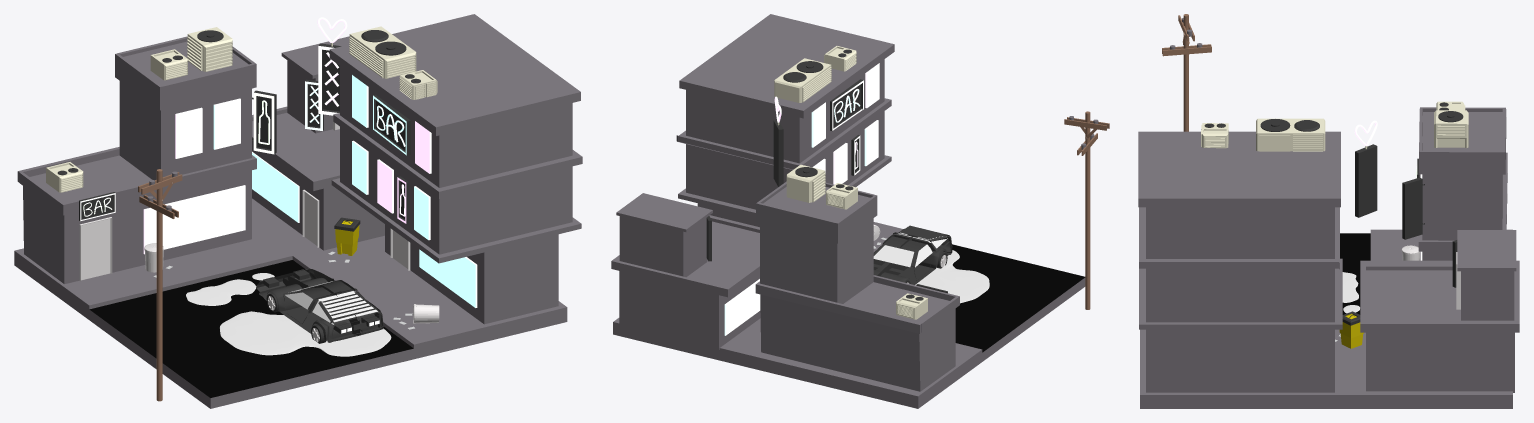
Rendered from cyberpunk_city.glb.
The picture shows the model from 3 angles, left to right: view 1: azimuth 30°, elevation 25°; view 2: azimuth 150°, elevation 25°; view 3: azimuth 270°, elevation 25°; orthographic projection. The views are drawn at different scales.
Visible parts, largest first — view 1: Cube.006_111, Cube.005_51, Pavement_144, Road_145, Cube.014_82, Water Puddle_148, Cube.002_48, Plane.012_8, Cube.017_85, Cube.001_47, Cube.045_125, Cube.016_84 (+24 smaller); view 2: Cube.005_51, Cube.006_111, Cube.014_82, Pavement_144, Road_145, Cube.017_85, Plane.012_8, Water Puddle_148, Cube.045_125, Cube.016_84, Cylinder.006_34, Cube.024_53 (+10 smaller); view 3: Cube.006_111, Cube.014_82, Cube.005_51, Pavement_144, Cube.017_85, Cube.045_125, Cube.033_122, Road_145, Cube.020_64, Cube.024_53, Cube.046_126, Cylinder.006_34 (+1 smaller).
Boxes of the visible parts, x1,y1,x2,y2 form: Cube.006_111: [329, 14, 582, 324]; Cube.005_51: [17, 36, 256, 284]; Pavement_144: [14, 198, 567, 408]; Road_145: [89, 260, 413, 397]; Cube.014_82: [252, 106, 384, 250]; Water Puddle_148: [220, 311, 391, 356]; Cube.002_48: [143, 185, 245, 254]; Plane.012_8: [256, 268, 383, 342]; Cube.017_85: [281, 36, 349, 133]; Cube.001_47: [79, 217, 112, 280]; Cube.045_125: [349, 26, 416, 78]; Cube.016_84: [252, 151, 299, 222]; Cube.005_51: [755, 181, 959, 391]; Cube.006_111: [676, 14, 894, 227]; Cube.014_82: [611, 215, 760, 349]; Pavement_144: [613, 222, 1085, 408]; Road_145: [952, 244, 1085, 352]; Cube.017_85: [616, 193, 712, 277]; Plane.012_8: [873, 229, 952, 284]; Water Puddle_148: [915, 250, 989, 303]; Cube.045_125: [774, 58, 831, 102]; Cube.016_84: [724, 279, 760, 335]; Cylinder.006_34: [1085, 111, 1090, 309]; Cube.024_53: [786, 164, 825, 202]; Cube.006_111: [1138, 131, 1342, 392]; Cube.014_82: [1360, 260, 1519, 392]; Cube.005_51: [1418, 107, 1507, 260]; Pavement_144: [1140, 229, 1512, 408]; Cube.017_85: [1457, 230, 1516, 320]; Cube.045_125: [1256, 118, 1325, 151]; Cube.033_122: [1355, 144, 1377, 217]; Road_145: [1340, 233, 1370, 314]; Cube.020_64: [1402, 177, 1422, 239]; Cube.024_53: [1434, 110, 1468, 148]; Cube.046_126: [1201, 123, 1228, 148]; Cylinder.006_34: [1183, 14, 1188, 131].
Size of the model in its own units: 14.16 by 8.05 by 11.66.
